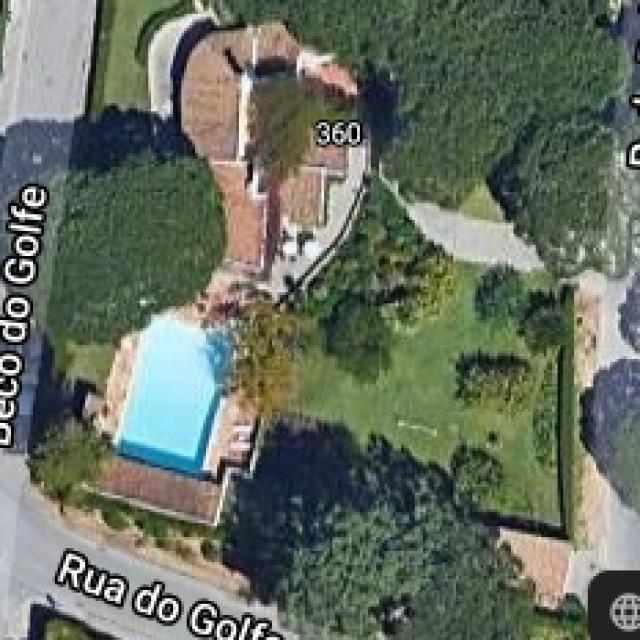pool: (104, 306, 228, 470)
